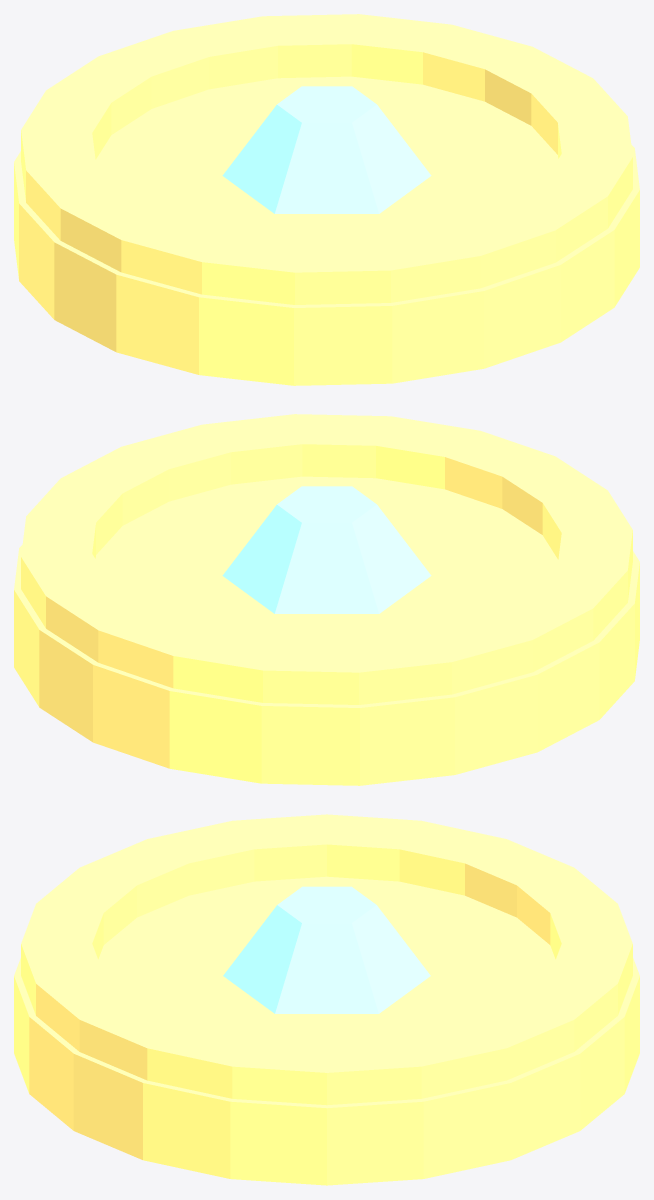
File: aether_crown.glb
The picture shows the model from 3 angles, top to bottom: view 1: azimuth 30°, elevation 25°; view 2: azimuth 150°, elevation 25°; view 3: azimuth 270°, elevation 25°; orthographic projection.
Visible parts, largest first — view 1: SM_AetherCrown; view 2: SM_AetherCrown; view 3: SM_AetherCrown.
Boxes of the visible parts, x1,y1,x2,y2 form: SM_AetherCrown: (14,14,639,385); SM_AetherCrown: (14,414,639,785); SM_AetherCrown: (14,814,639,1185).
Bounding box in the file's own units: 0.44 × 0.115 × 0.44.
